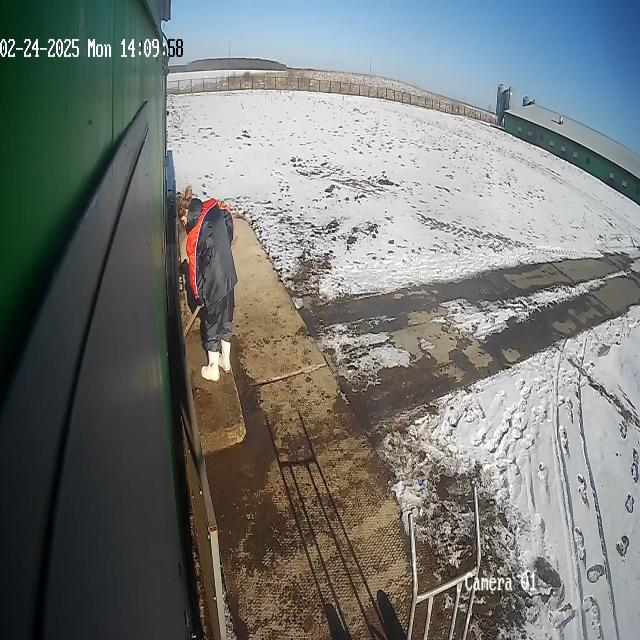Red uniform: (177, 193, 239, 385)
